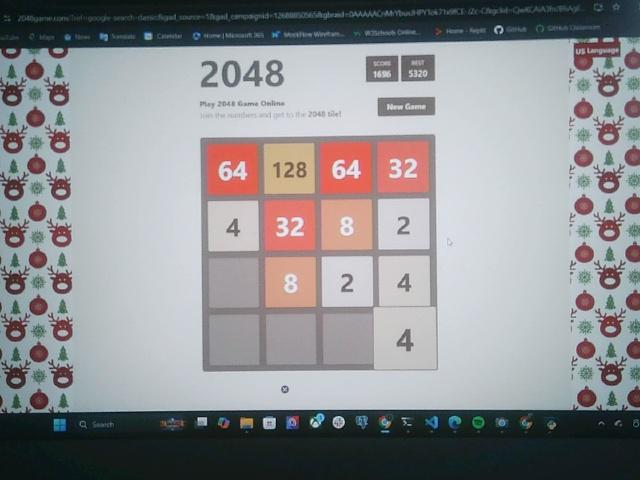best_score_box: (401, 55, 435, 81)
button: (378, 96, 436, 117)
score_box: (366, 56, 399, 82)
